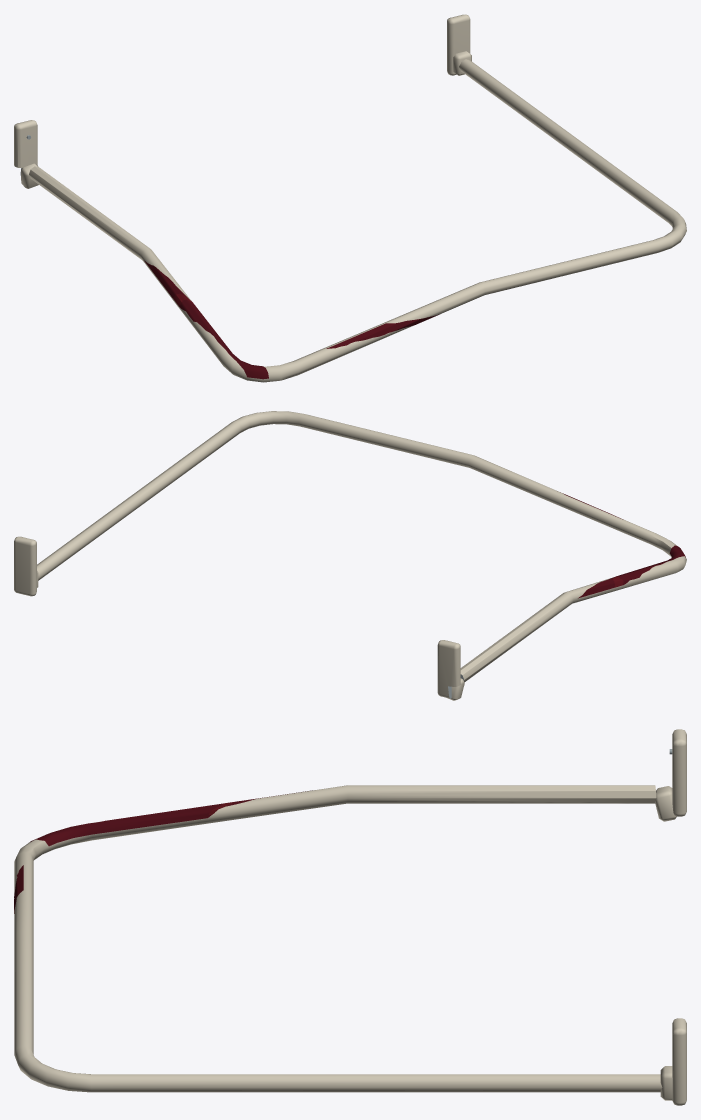
Rendered from curtain_rail.glb.
3 views of the same model, one above another, from view 1: azimuth 30°, elevation 25°; view 2: azimuth 150°, elevation 25°; view 3: azimuth 270°, elevation 25° (orthographic). The views are drawn at different scales.
Parts seen in each view (by area): view 1: Outbreak_Recovery_Curtain_Rail_U_Static; view 2: Outbreak_Recovery_Curtain_Rail_U_Static; view 3: Outbreak_Recovery_Curtain_Rail_U_Static.
Part boxes in pixels (x1=…): Outbreak_Recovery_Curtain_Rail_U_Static: x1=14, y1=14, x2=686, y2=382; Outbreak_Recovery_Curtain_Rail_U_Static: x1=14, y1=411, x2=686, y2=700; Outbreak_Recovery_Curtain_Rail_U_Static: x1=14, y1=729, x2=686, y2=1105.
Bounding box in the file's own units: 2.48 × 0.4487 × 2.28.
